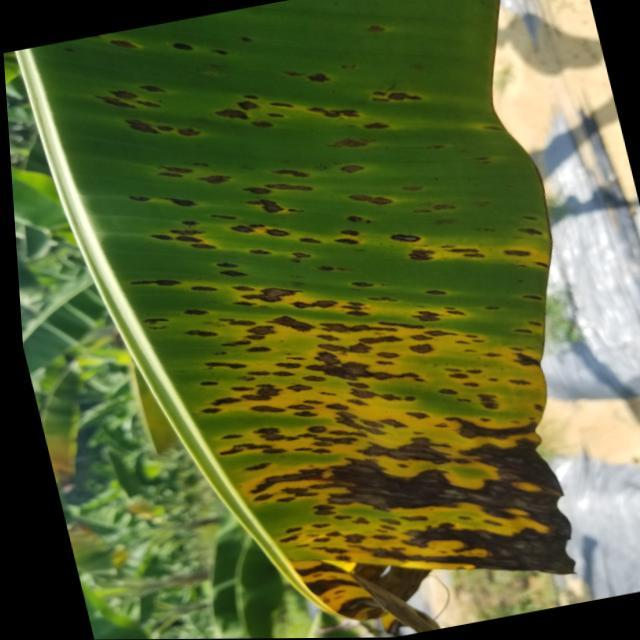Early_rust: (5, 11, 570, 640)
